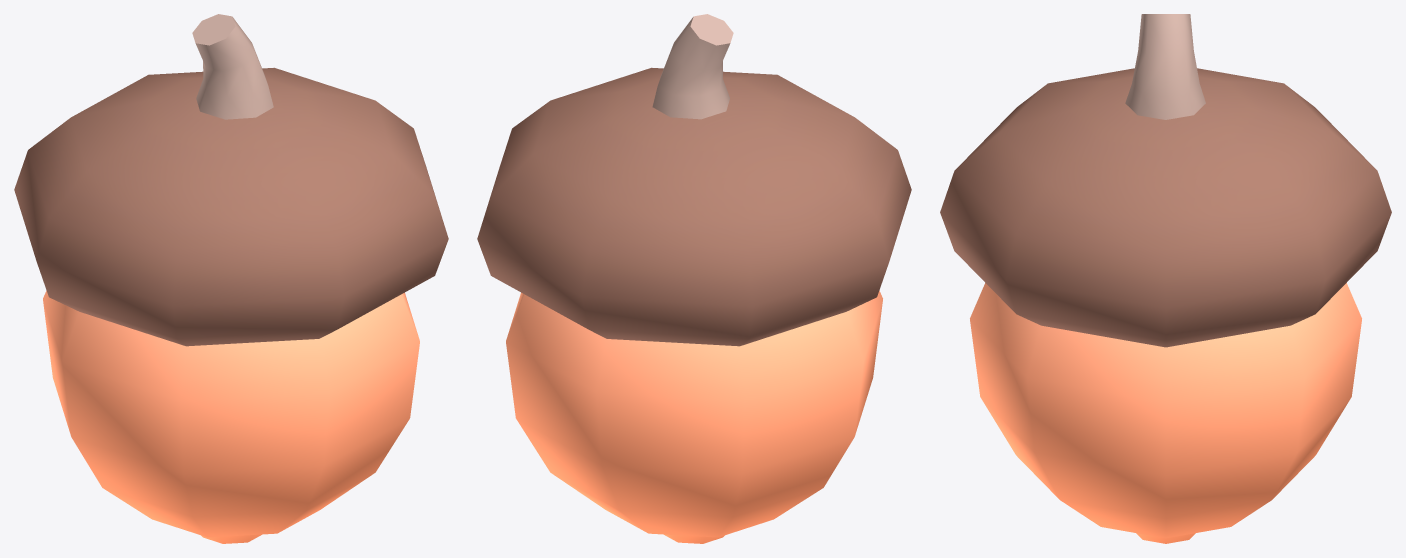
File: acorn_001.glb
3 views of the same model, side by side, from view 1: azimuth 30°, elevation 25°; view 2: azimuth 150°, elevation 25°; view 3: azimuth 270°, elevation 25° (orthographic).
Parts seen in each view (by area): view 1: acorn_001; view 2: acorn_001; view 3: acorn_001.
Part boxes in pixels (<box>): acorn_001: <box>14,14,448,543</box>; acorn_001: <box>477,14,911,543</box>; acorn_001: <box>940,14,1391,543</box>.
Bounding box in the file's own units: 1.25 × 1.61 × 1.25.
1 material, 1 textured.
